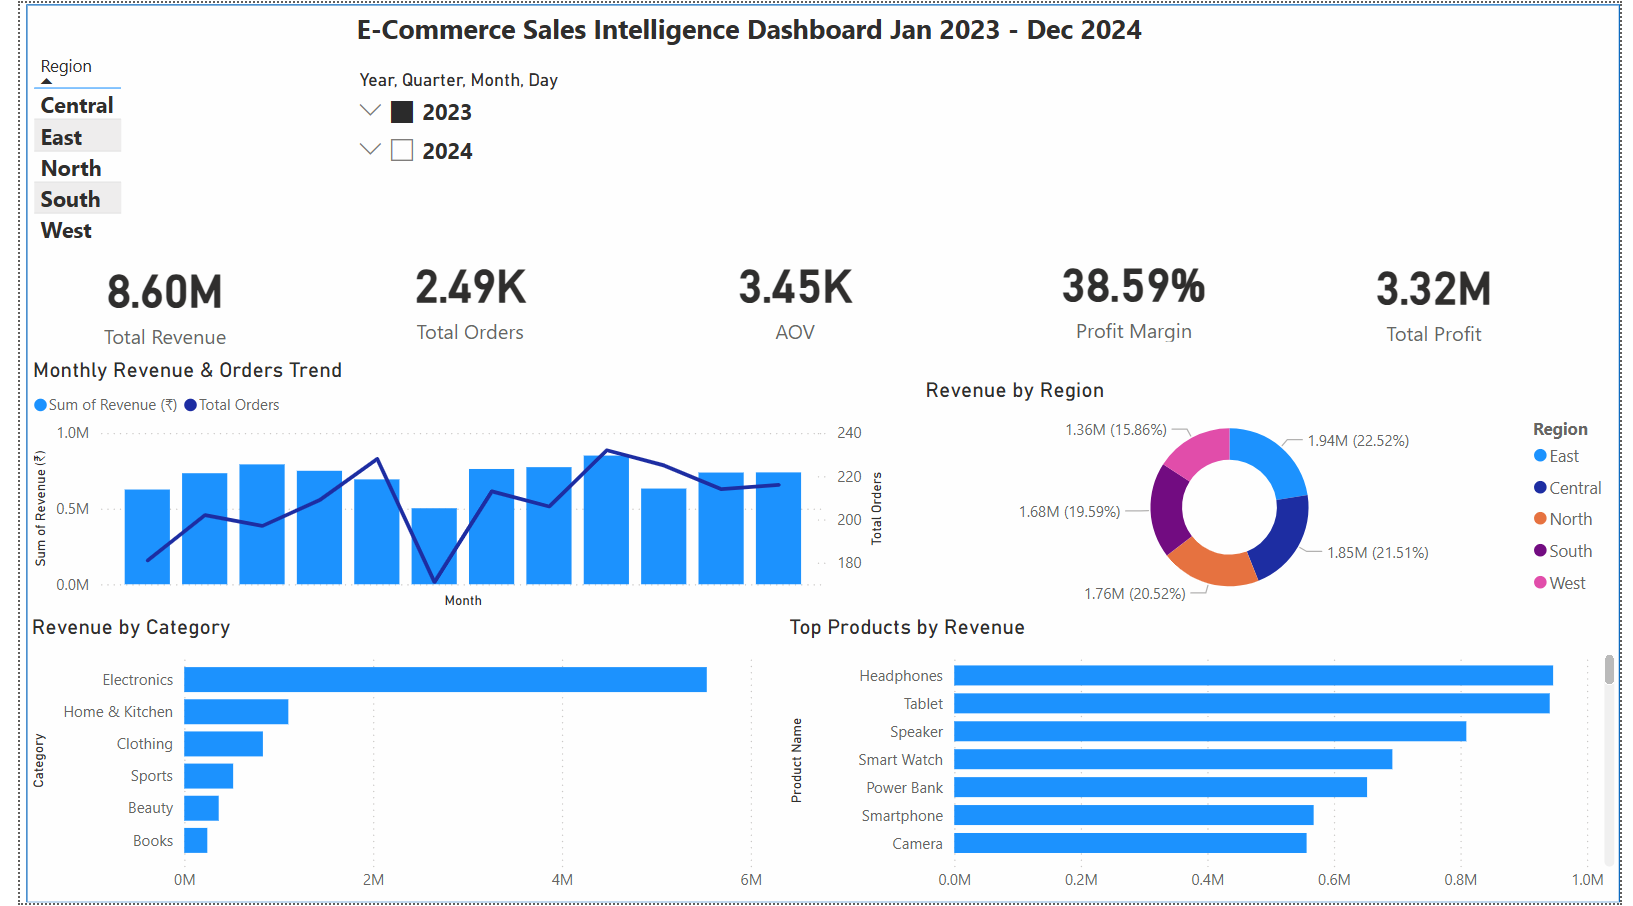

This screenshot's page, from the dashboard's own definition file:
{"tool":"powerbi","page":{"name":"Page 1","canvas":[1280,720],"ordinal":0},"visuals":[{"type":"card","fields":{"Values":["Customer Dimension Table (dim_customer).Total Revenue"]},"box":[0,192.5,231.2,90],"z":0},{"type":"card","fields":{"Values":["Customer Dimension Table (dim_customer).AOV"]},"box":[487.5,192.5,263.8,83.8],"z":1000},{"type":"card","fields":{"Values":["Customer Dimension Table (dim_customer).Total Orders"]},"box":[223.8,192.5,271.2,83.8],"z":2000},{"type":"card","fields":{"Values":["Customer Dimension Table (dim_customer).Profit Margin"]},"box":[751.2,191.2,278.8,85],"z":3000},{"type":"card","fields":{"Values":["Customer Dimension Table (dim_customer).Total Profit"]},"box":[1015,192.5,231.2,85],"z":4000},{"type":"textbox","box":[257.8,1.1,687.8,66.7],"z":5000},{"type":"tableEx","fields":{"Values":["Customer Dimension Table (dim_customer).Region"]},"box":[5,35,242.5,180],"z":6000},{"type":"slicer","fields":{"Values":["fact_orders.Order Date.Variation.Date Hierarchy.Year","fact_orders.Order Date.Variation.Date Hierarchy.Quarter","fact_orders.Order Date.Variation.Date Hierarchy.Month","fact_orders.Order Date.Variation.Date Hierarchy.Day"]},"box":[257.6,47.8,319.6,156.5],"z":7000},{"type":"donutChart","title":"Revenue by Region","fields":{"Category":["fact_orders.Region"],"Y":["Sum(fact_orders.Revenue (₹))"]},"box":[718.8,298.8,561.2,190],"z":8000},{"type":"clusteredBarChart","title":"Revenue by Category","fields":{"Category":["fact_orders.Category"],"Y":["Sum(fact_orders.Revenue (₹))"]},"box":[4.4,488.9,593.3,231.1],"z":9000},{"type":"clusteredBarChart","title":"Top Products by Revenue","fields":{"Category":["fact_orders.Product Name"],"Y":["Sum(fact_orders.Revenue (₹))"]},"box":[610,488.9,670,231.1],"z":10000},{"type":"lineClusteredColumnComboChart","title":"Monthly Revenue & Orders Trend","fields":{"Category":["fact_orders.MonthYear2"],"Y":["Sum(fact_orders.Revenue (₹))"],"Y2":["Customer Dimension Table (dim_customer).Total Orders"]},"box":[5,282.5,691.2,206.2],"z":11000}]}

Visuals, with their boxes in screenshot pixels (x1, y1, x2, y2), scaled from the page's 1280x720 canvas onto the 1633x906 screenshot:
card - Customer Dimension Table (dim_customer).Total Revenue: locate(0, 242, 295, 355)
card - Customer Dimension Table (dim_customer).AOV: locate(622, 242, 958, 348)
card - Customer Dimension Table (dim_customer).Total Orders: locate(286, 242, 632, 348)
card - Customer Dimension Table (dim_customer).Profit Margin: locate(958, 241, 1314, 348)
card - Customer Dimension Table (dim_customer).Total Profit: locate(1295, 242, 1590, 349)
textbox: locate(329, 1, 1206, 85)
tableEx - Customer Dimension Table (dim_customer).Region: locate(6, 44, 316, 271)
slicer - fact_orders.Order Date.Variation.Date Hierarchy.Year x fact_orders.Order Date.Variation.Date Hierarchy.Quarter: locate(329, 60, 736, 257)
"Revenue by Region" donutChart: locate(917, 376, 1632, 615)
"Revenue by Category" clusteredBarChart: locate(6, 615, 763, 905)
"Top Products by Revenue" clusteredBarChart: locate(778, 615, 1632, 905)
"Monthly Revenue & Orders Trend" lineClusteredColumnComboChart: locate(6, 355, 888, 615)
